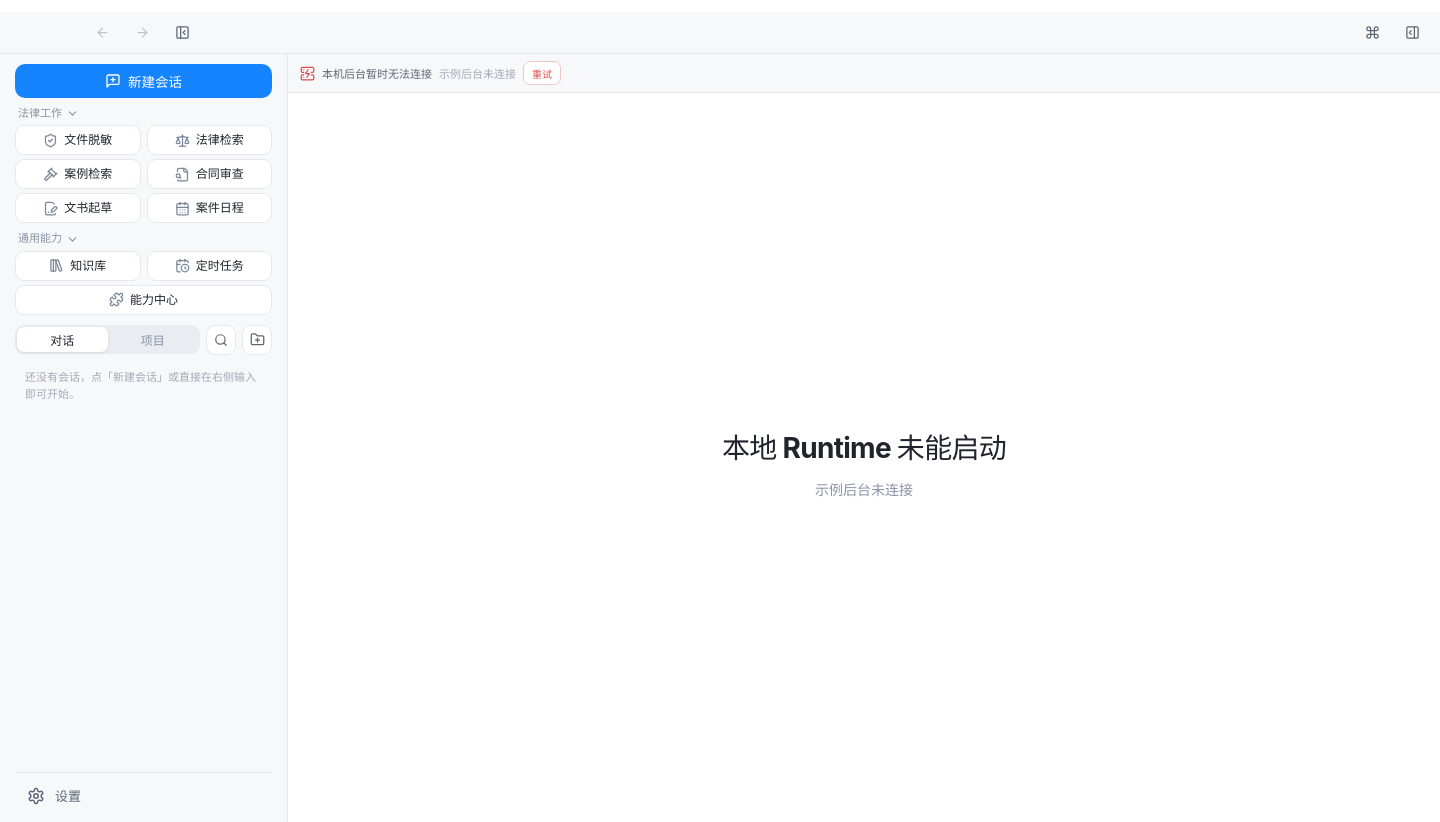
Test case: shortcut controls remain reachable when the backend cannot start
This screenshot has width=1440, height=822.
What coordinates should you click on to do the following:
click the button "设置"
I would click on:
 (144, 796)
Its box is [15,779,272,812].
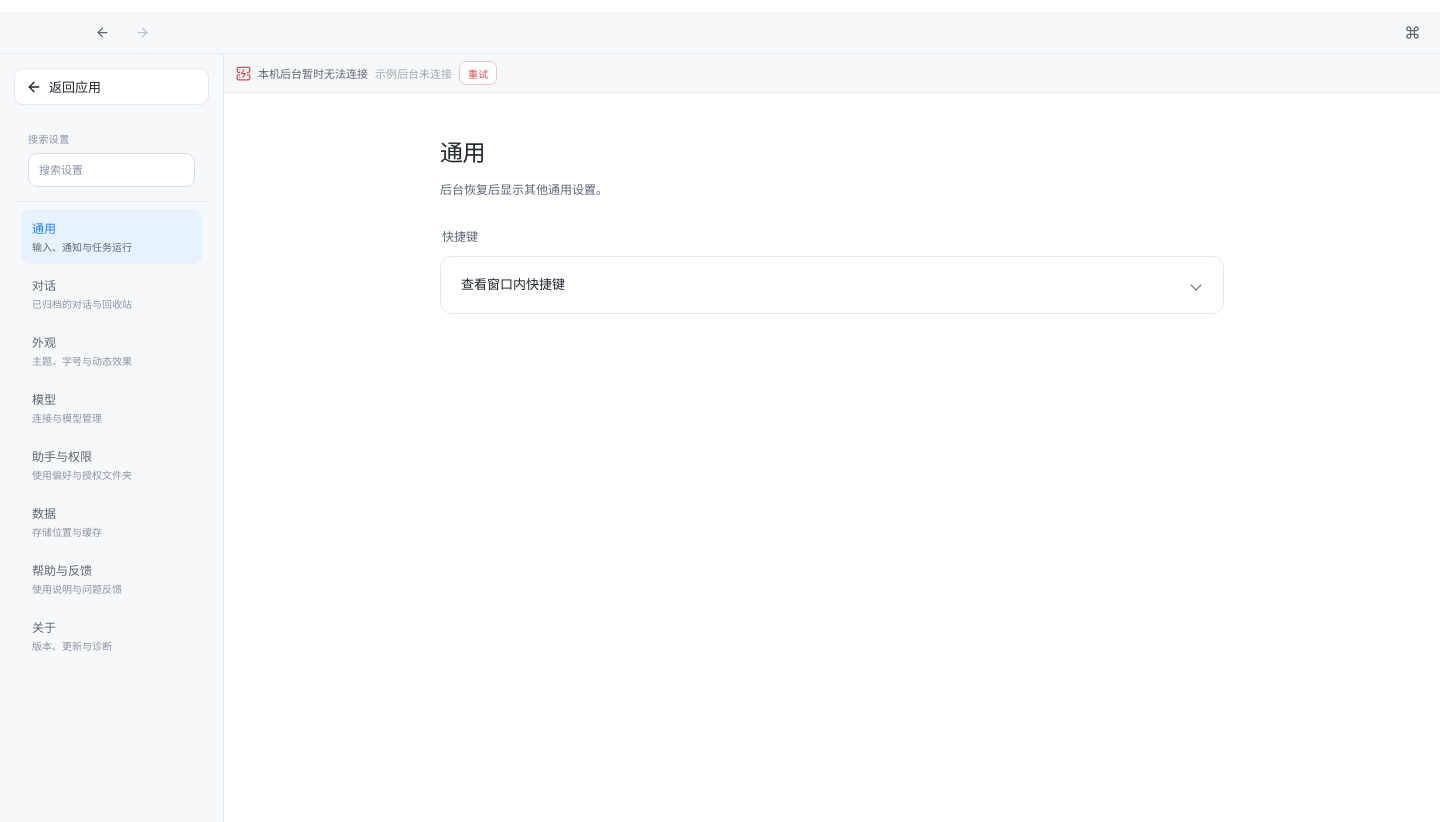
Expected: the heading "快捷键" is shown, [442,229,478,244]
